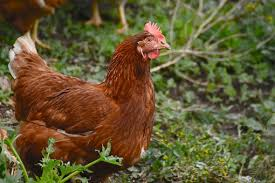chicken: (1, 15, 177, 180)
